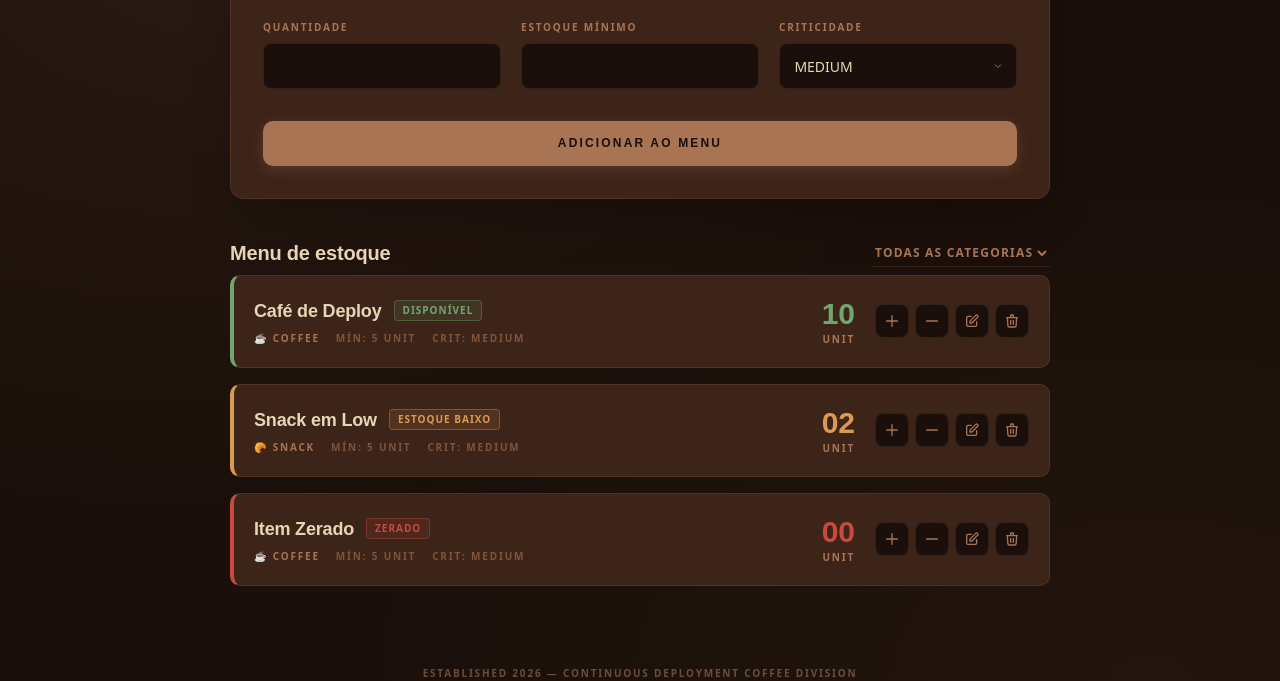
Test: PipelineCafePage › formulário de item › cancela edição e volta ao formulário de criação
This screenshot has width=1280, height=681.
(page scrolled)
Click the button titled "Editar" next to "10" at (972, 321), box [955,304,989,338]
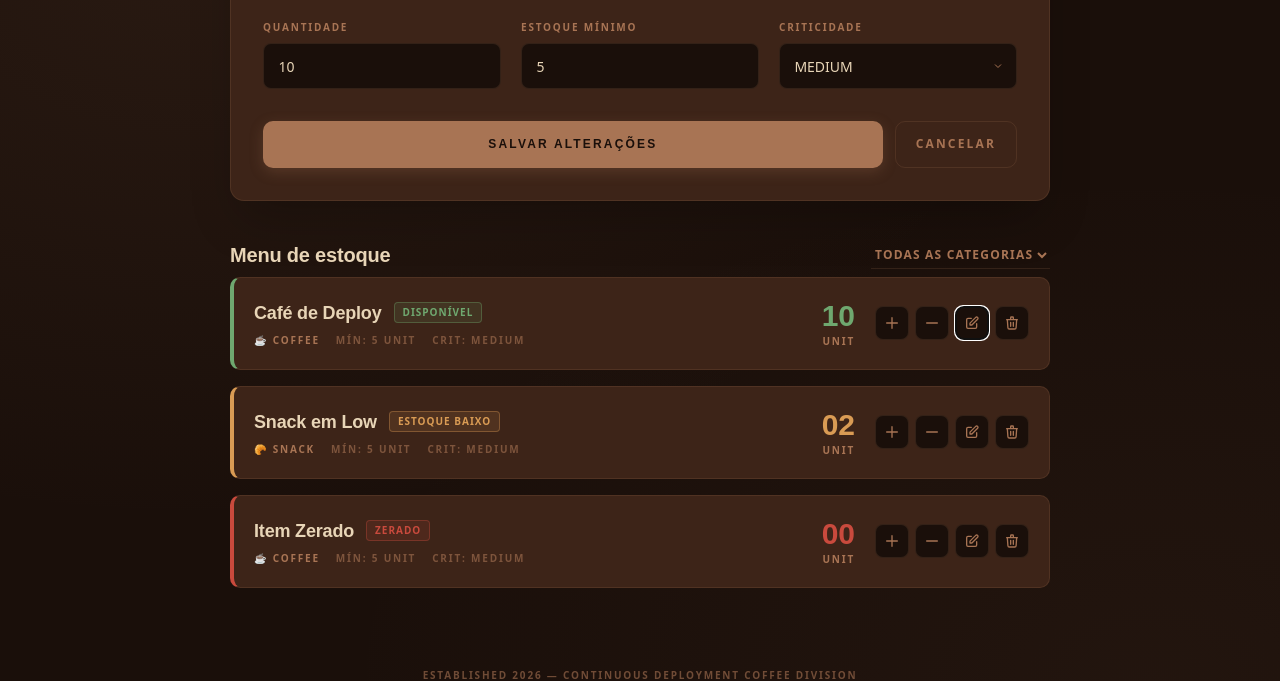
Click the button "Cancelar" at (956, 144), box [895,121,1017,168]
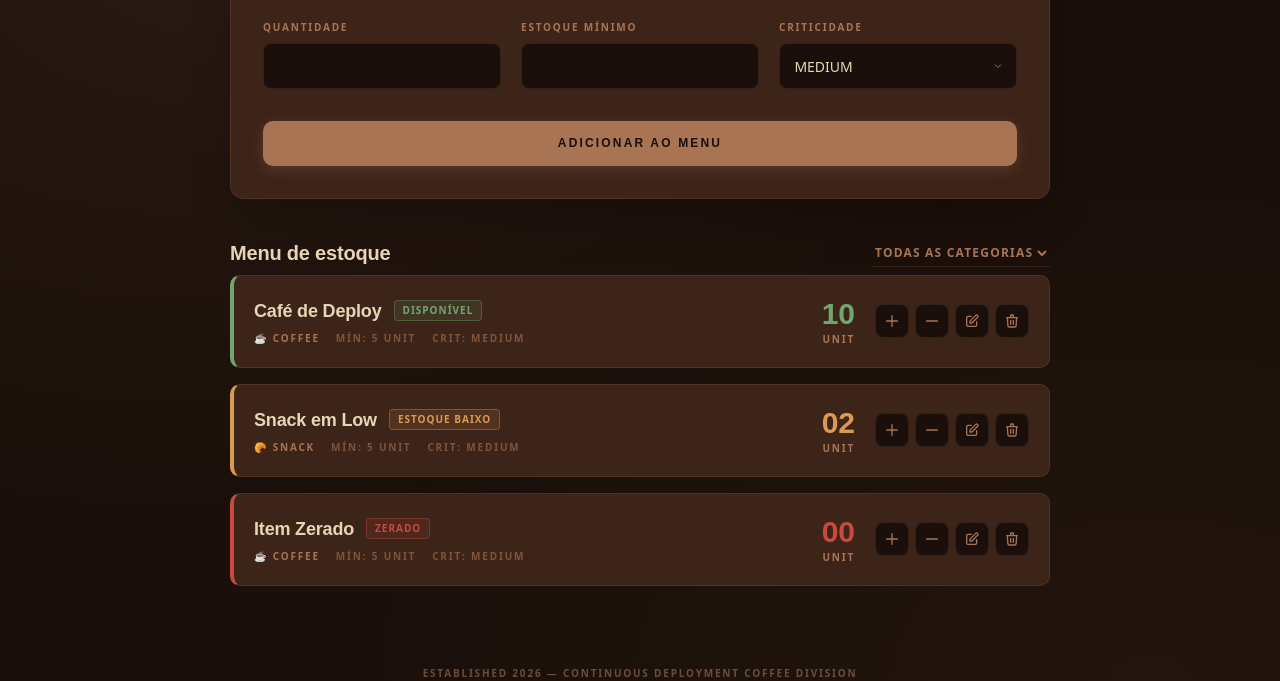
Result: the button "ADICIONAR AO MENU" is shown at [263,121,1017,166]
